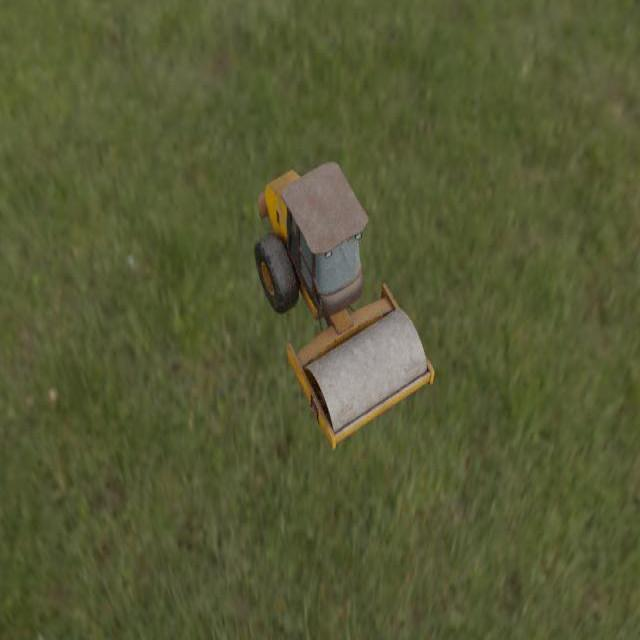Roller: (253, 161, 434, 451)
